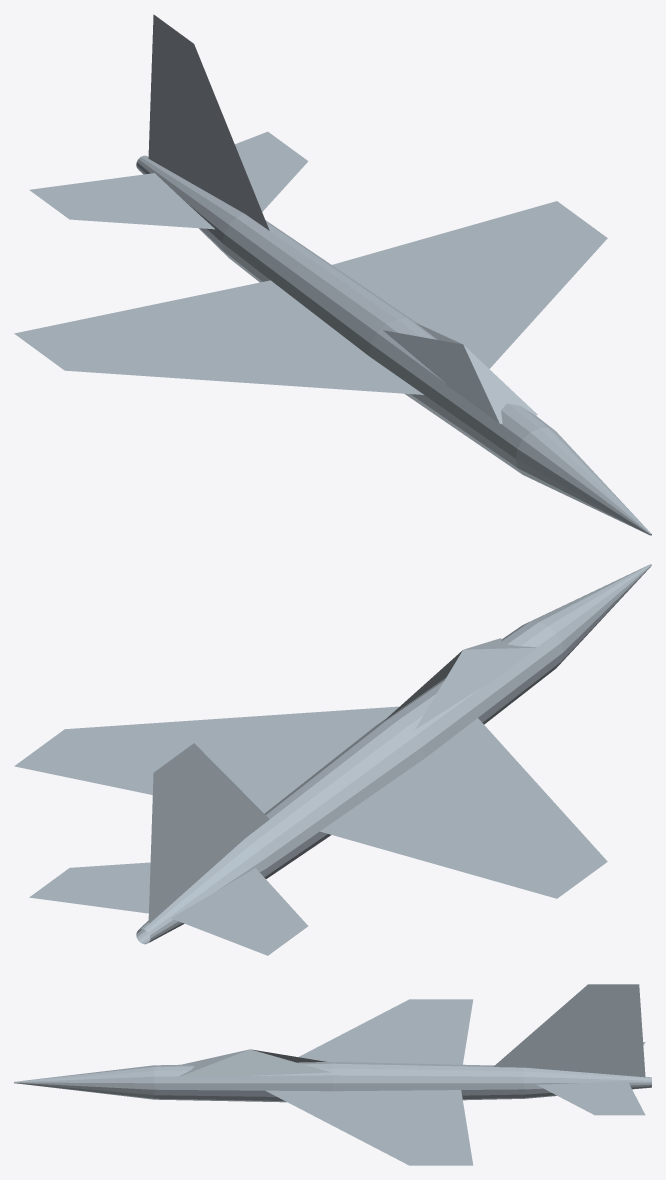
3 views of the same model, one above another, from view 1: azimuth 30°, elevation 25°; view 2: azimuth 150°, elevation 25°; view 3: azimuth 270°, elevation 25° (orthographic). The views are drawn at different scales.
Bounding box in the file's own units: 9.14 × 3 × 14.8.
